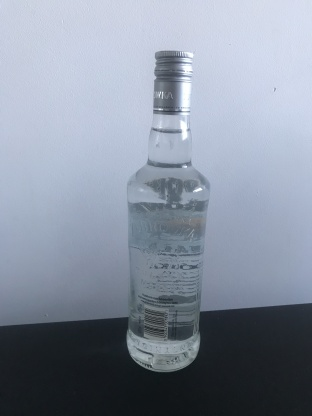nakretka: (151, 48, 195, 117)
